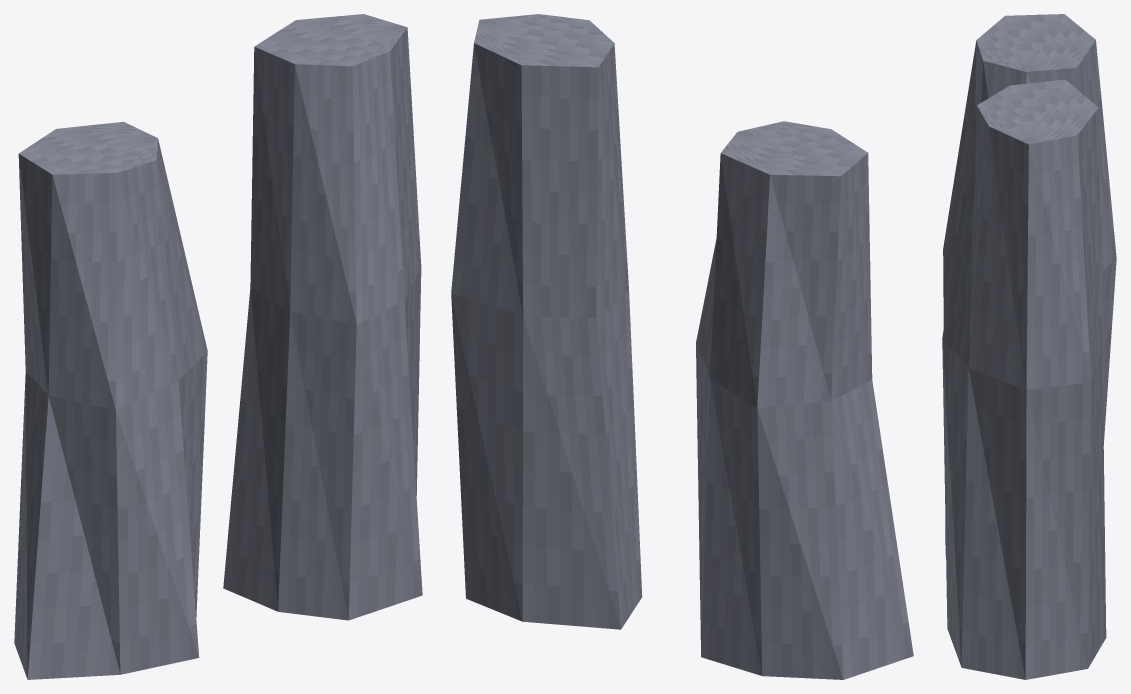
Rendered from cave-and-crystal-networks-fissure-entrance-cb9d7cf6.glb.
3 renders of one model, left to right at view 1: azimuth 30°, elevation 25°; view 2: azimuth 150°, elevation 25°; view 3: azimuth 270°, elevation 25°, orthographic. The views are drawn at different scales.
Visible parts, largest first — view 1: fissure-entrance; view 2: fissure-entrance; view 3: fissure-entrance.
Boxes of the visible parts, <box> form: fissure-entrance: <box>14,14,422,679</box>; fissure-entrance: <box>451,14,913,679</box>; fissure-entrance: <box>942,14,1116,679</box>.
Size of the model in its own units: 3.54 by 4.4 by 1.31.
Materials: 1 (1 with a texture image).
